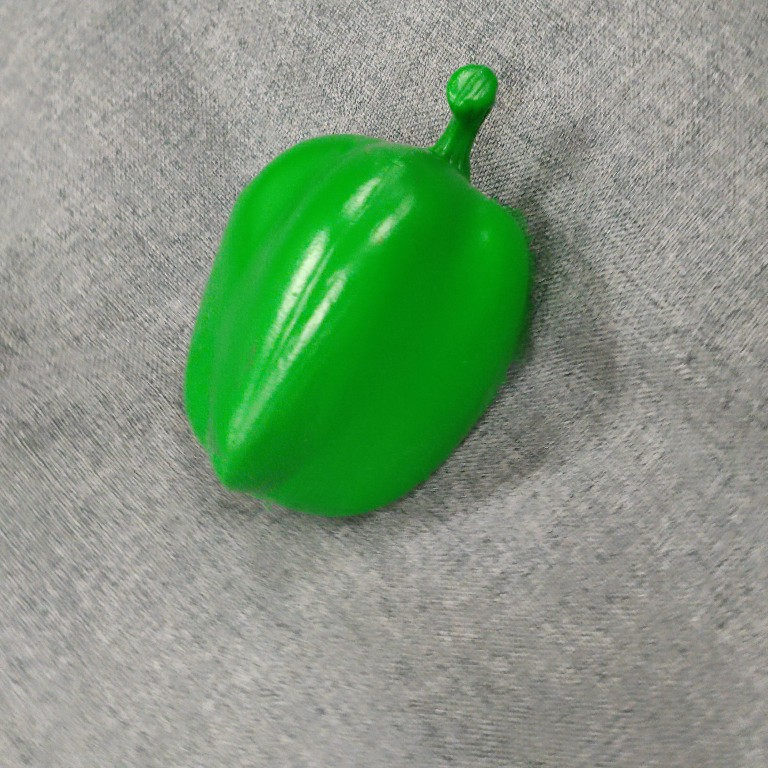fruit_pepper: (175, 59, 538, 522)
